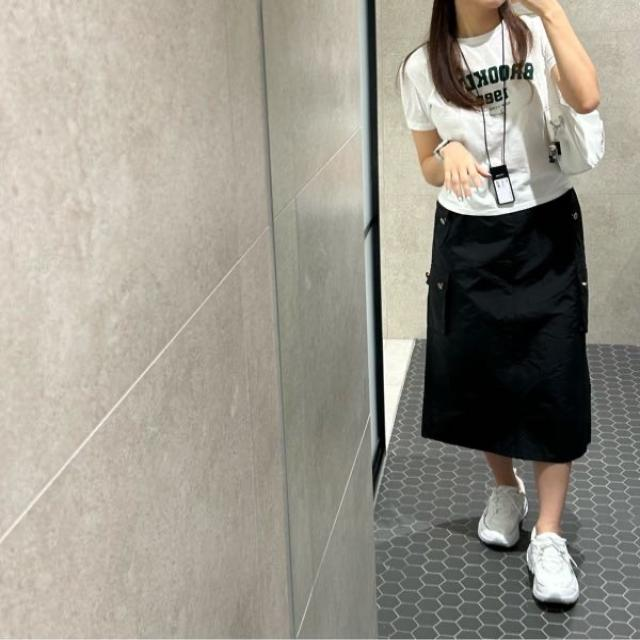shortsleeve: (400, 14, 578, 216)
skirt: (420, 185, 593, 464)
